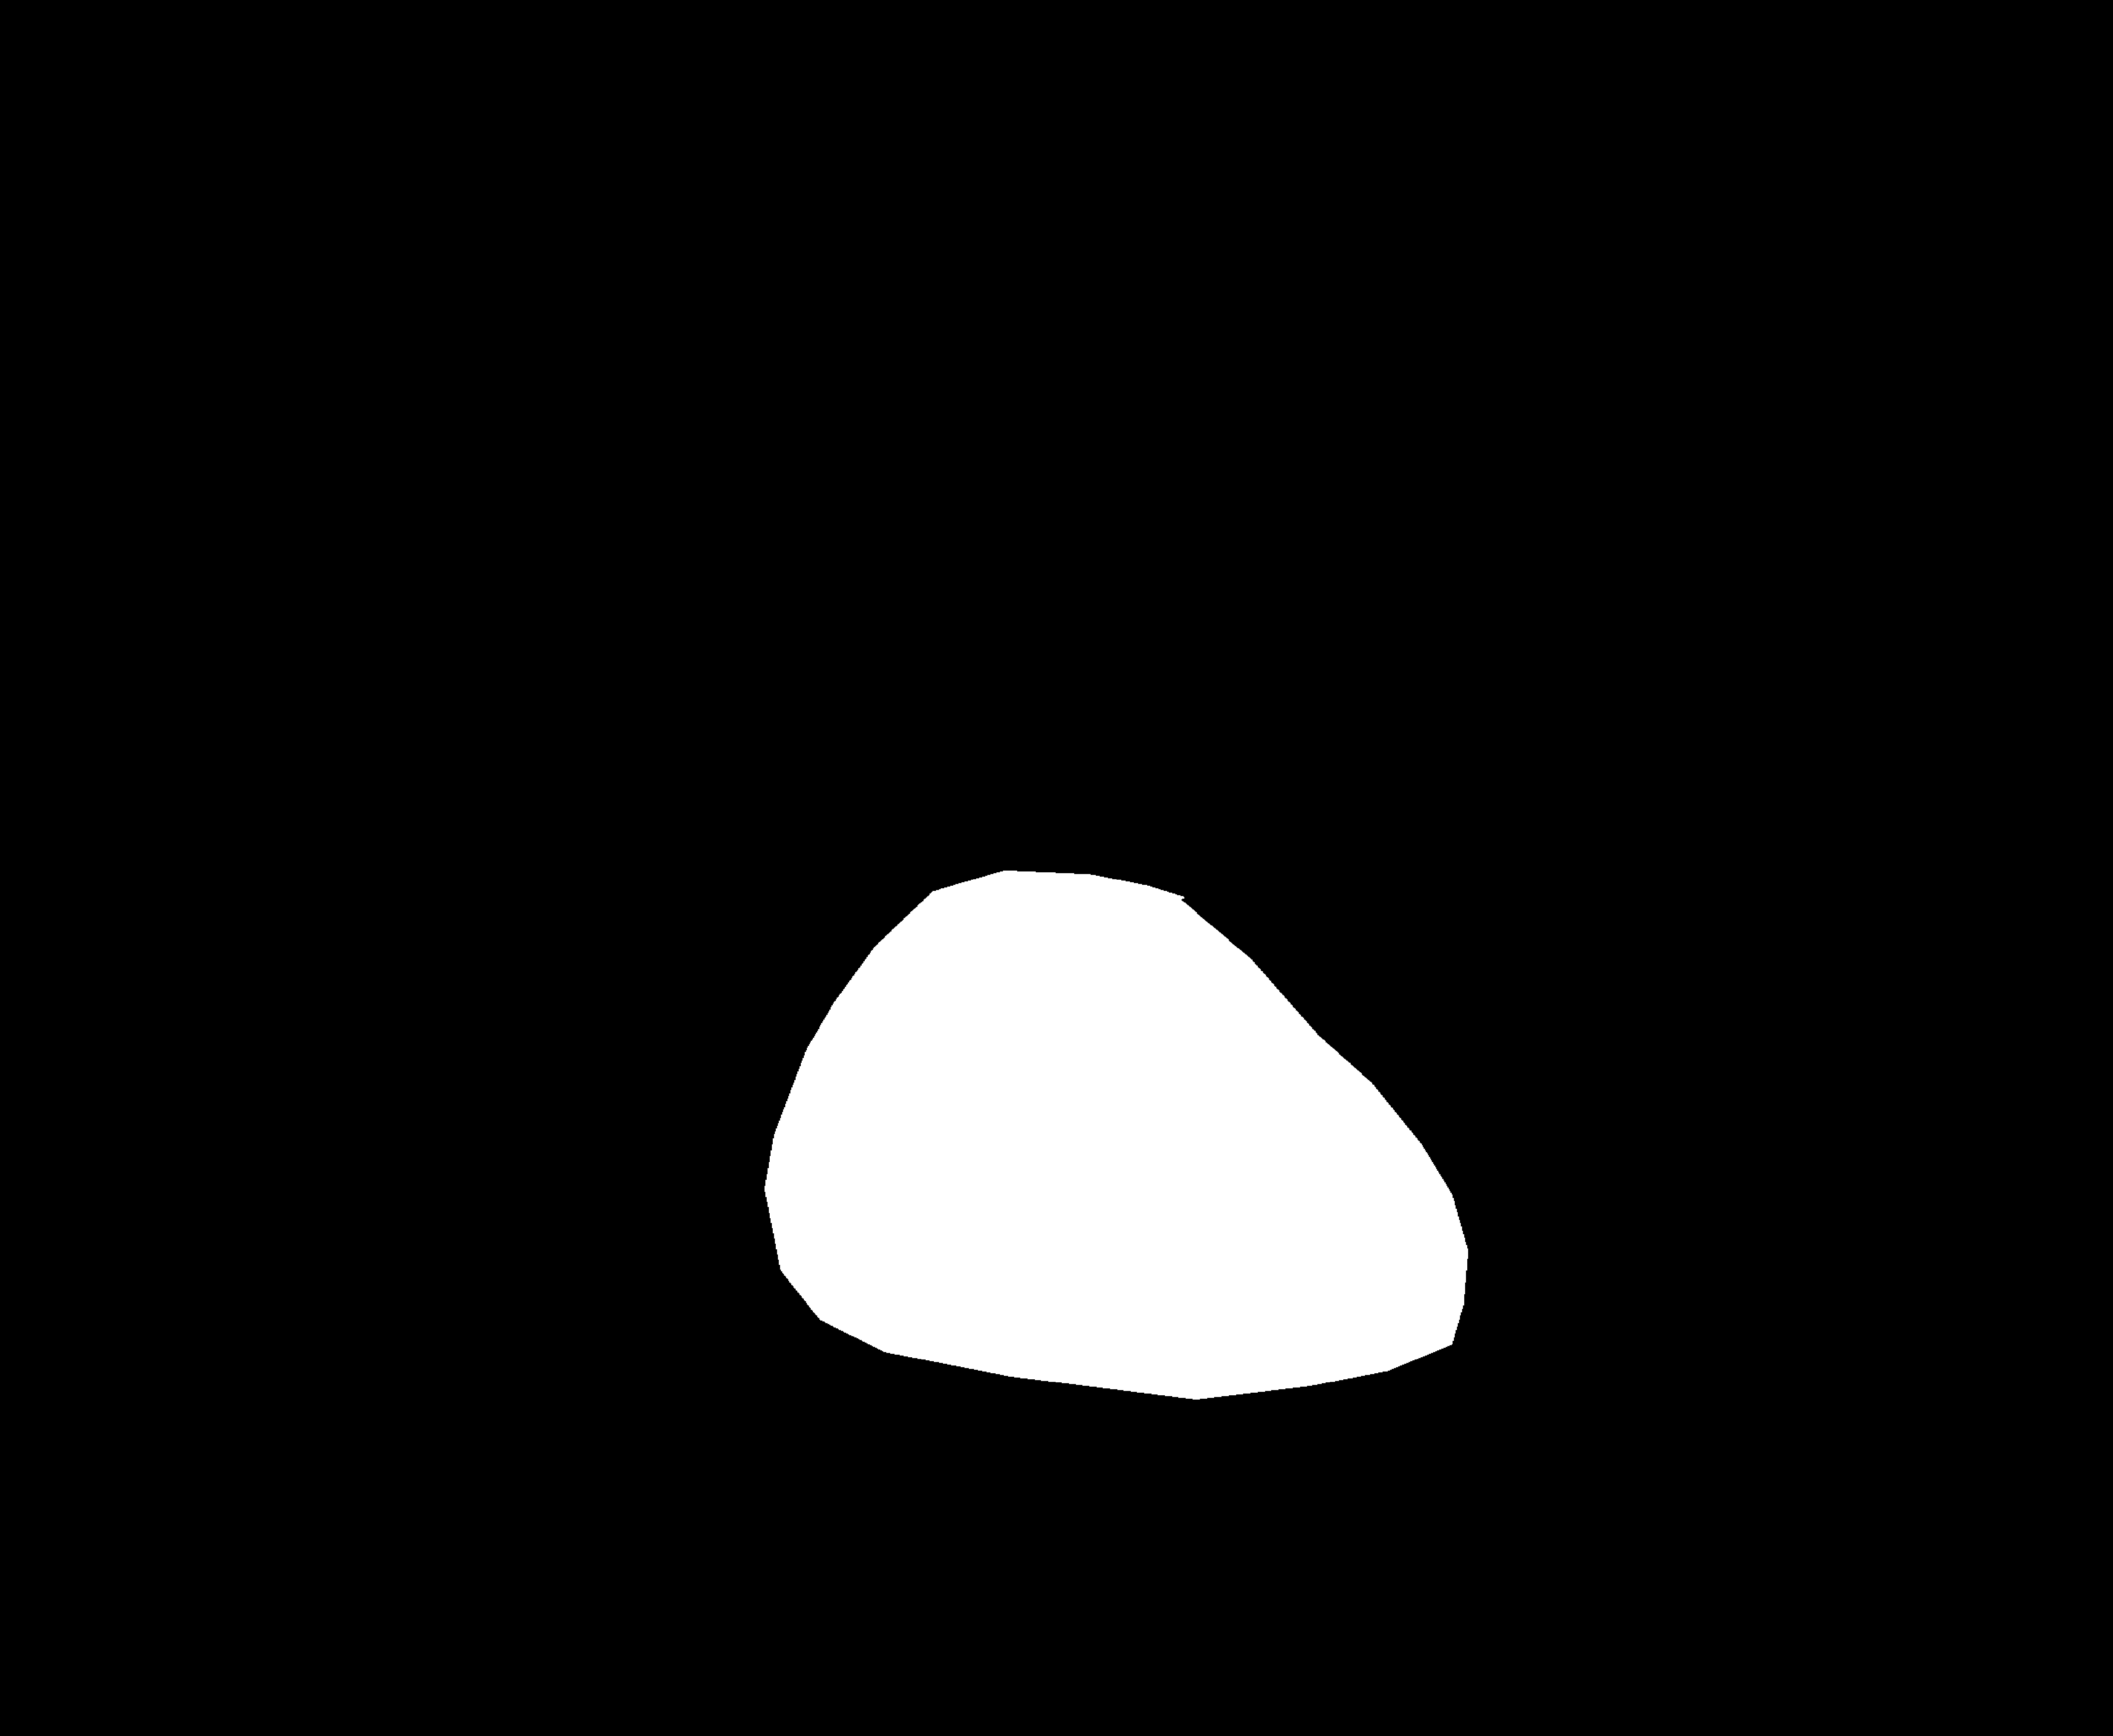heart: (762, 960, 1469, 1466)
left_lung: (225, 348, 949, 1524)
right_lung: (1100, 342, 1843, 1575)
